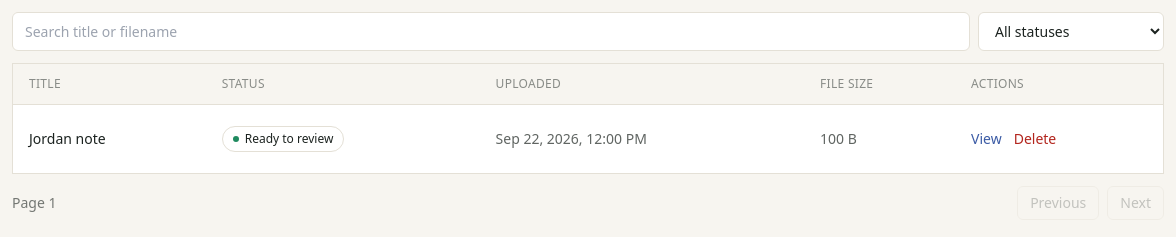
Test case: keeps search controls available after no matches and lets the user recover
The width and height of the screenshot is (1176, 237).
Expected: the link "Jordan note" is shown, [29,129,106,148]
Type "missing" into the field named "Search conversations" at [491, 32], box [12,12,970,51]
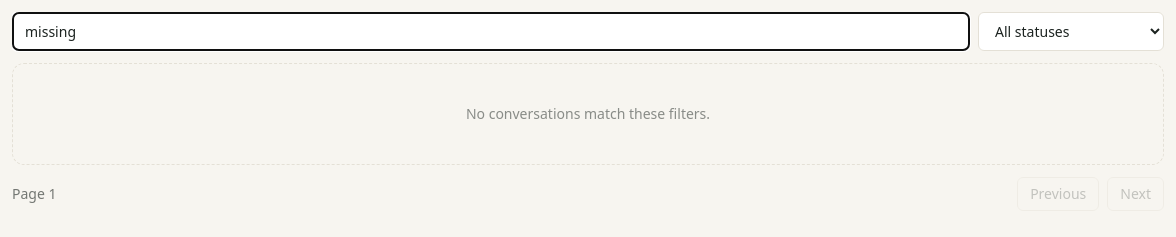
Expected: the text "No conversations match these filters." is shown, [12,63,1164,165]
Clear the field named "Search conversations" at [491, 32], box [12,12,970,51]
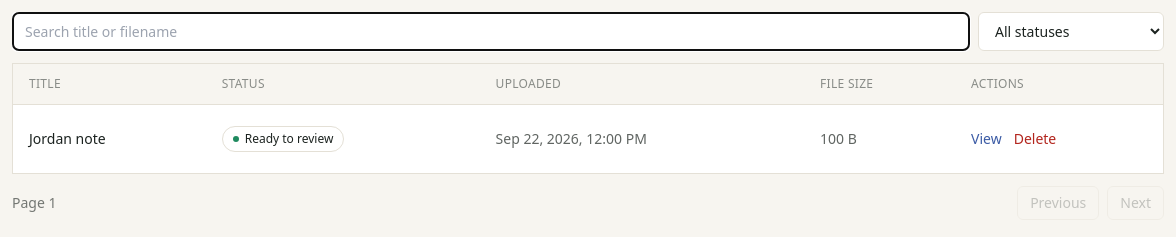
Expected: the link "Jordan note" is shown, [29,129,106,148]
